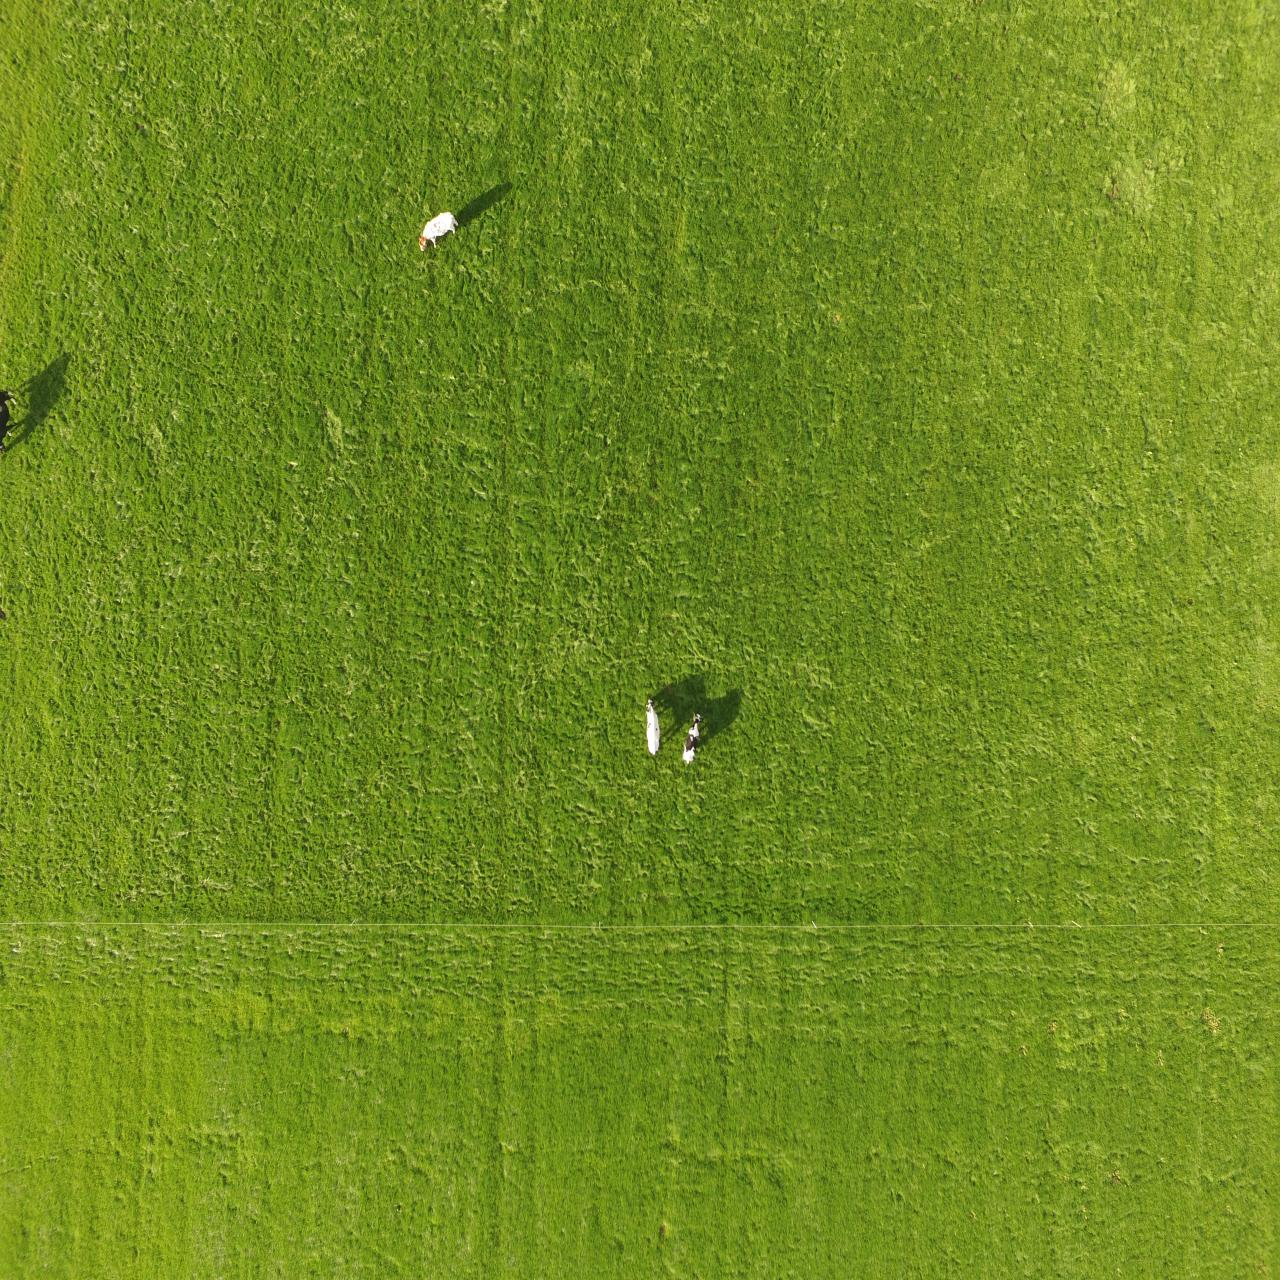cow: (416, 210, 458, 254), (681, 710, 703, 764), (644, 696, 662, 757)
